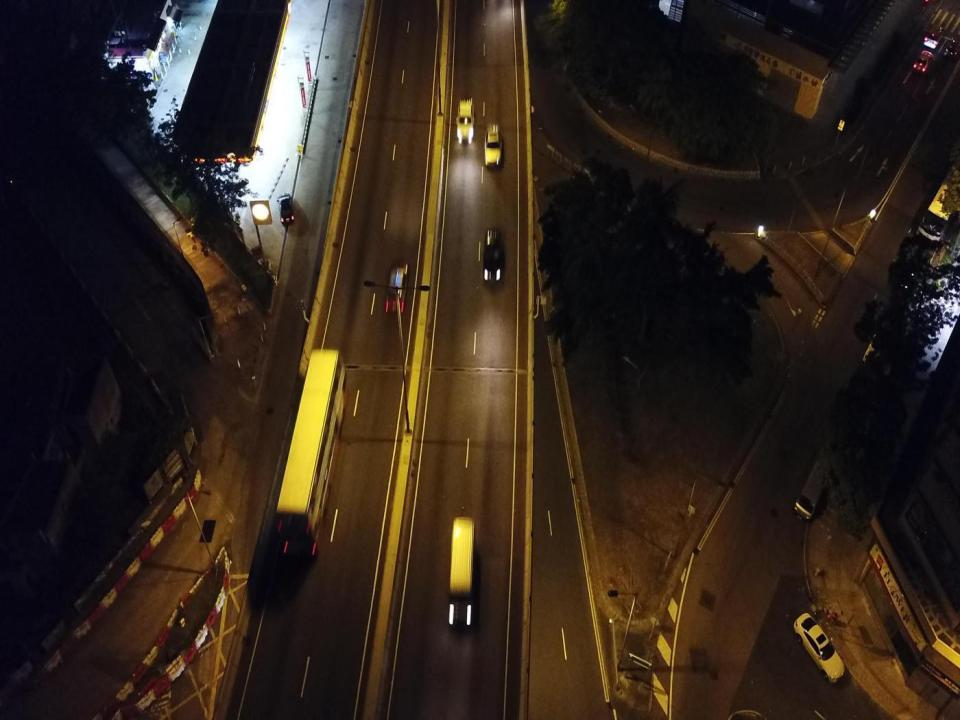bus: (274, 348, 346, 563), (918, 141, 960, 250)
car: (794, 612, 846, 683), (482, 228, 505, 286), (385, 266, 407, 313), (484, 122, 503, 166), (456, 98, 475, 142), (913, 49, 934, 74), (278, 192, 294, 223)
truck: (447, 516, 477, 632)
van: (795, 453, 832, 522), (924, 21, 943, 50), (944, 33, 960, 59)
